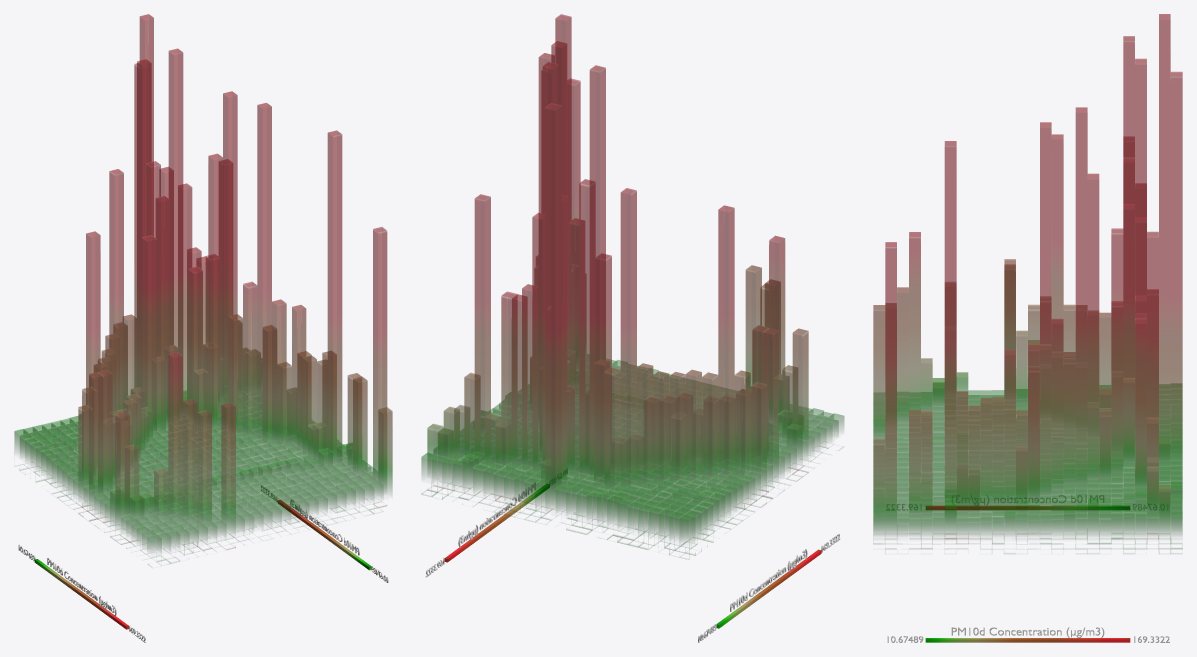
3 renders of one model, left to right at view 1: azimuth 30°, elevation 25°; view 2: azimuth 150°, elevation 25°; view 3: azimuth 270°, elevation 25°, orthographic. The views are drawn at different scales.
Visible parts, largest first — view 1: Cube.589, Cube.002, Cube.001; view 2: Cube.589, Cube.002, Cube.001; view 3: Cube.589, Cube.001, Cube.002, Text.003.
Part boxes in pixels (x1,y1,x2,y2): Cube.589: [14, 14, 392, 566]; Cube.002: [34, 559, 129, 629]; Cube.001: [277, 500, 371, 570]; Cube.589: [421, 14, 844, 557]; Cube.002: [716, 549, 821, 628]; Cube.001: [444, 484, 549, 562]; Cube.589: [873, 14, 1182, 553]; Cube.001: [925, 638, 1130, 642]; Cube.002: [926, 505, 1129, 510]; Text.003: [951, 627, 1104, 637].
Bounding box in the file's own units: 51.18 × 100 × 49.98.
Materials: 3 (2 with a texture image).
